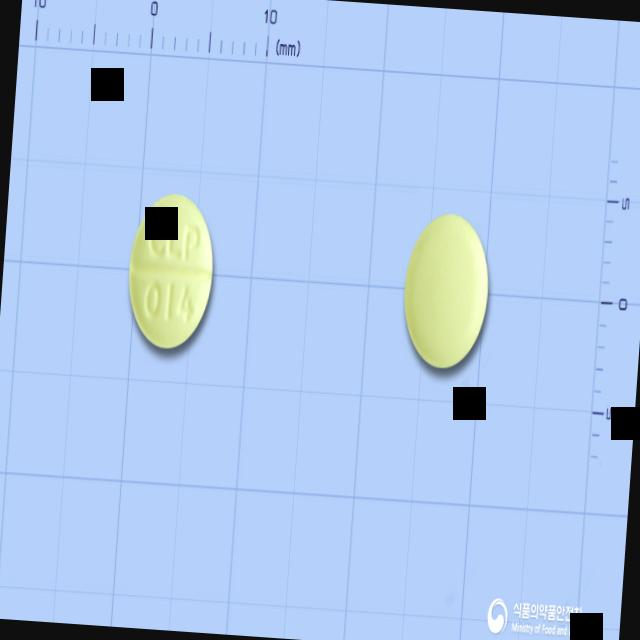Immuthera: (123, 188, 217, 352)
